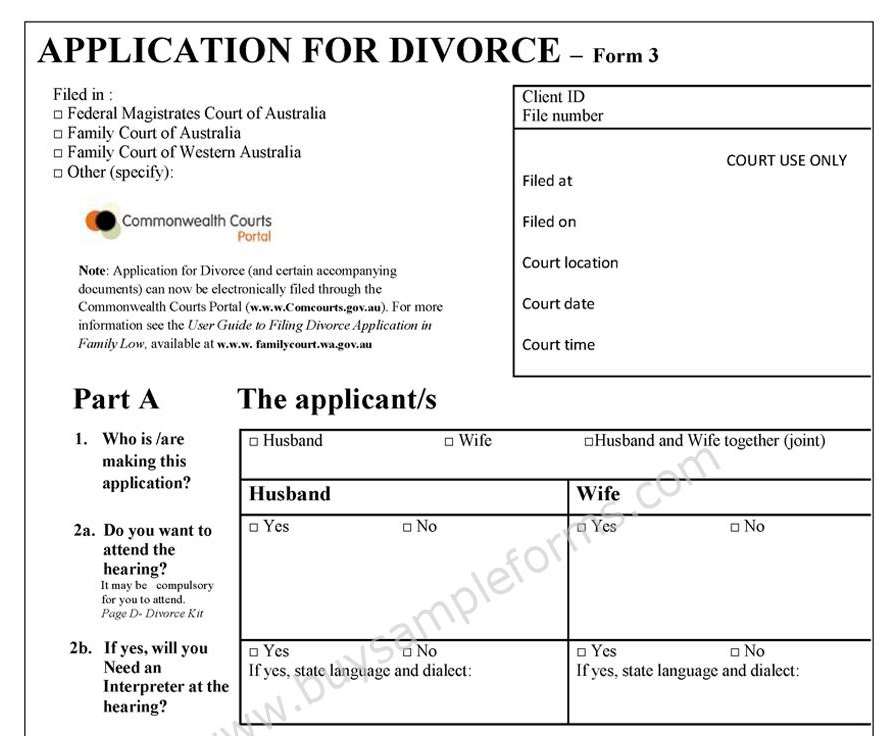checkbox: (246, 644, 260, 661), (399, 644, 413, 661), (573, 644, 587, 661), (727, 644, 741, 661), (247, 521, 257, 535), (401, 521, 411, 535), (576, 521, 586, 535), (729, 521, 739, 535), (52, 108, 63, 120), (52, 128, 63, 140), (52, 147, 63, 159), (52, 167, 63, 179), (248, 438, 258, 449), (443, 437, 453, 448), (583, 437, 593, 448)
